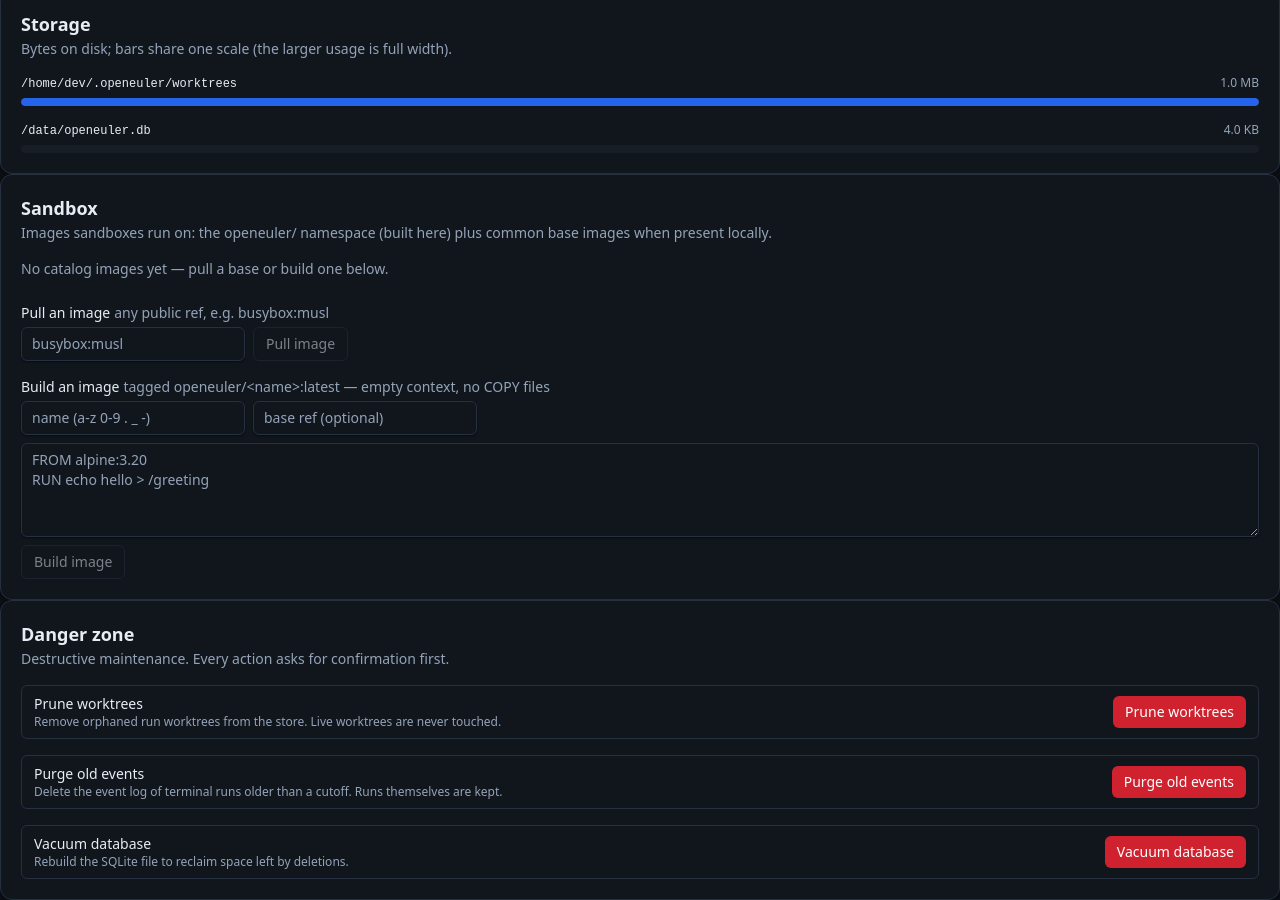
danger zone: vacuum (#95) › surfaces a failed action as a danger toast
(page scrolled)
Click the button "Vacuum database": (1175, 852) x1=1105 y1=836 x2=1246 y2=868
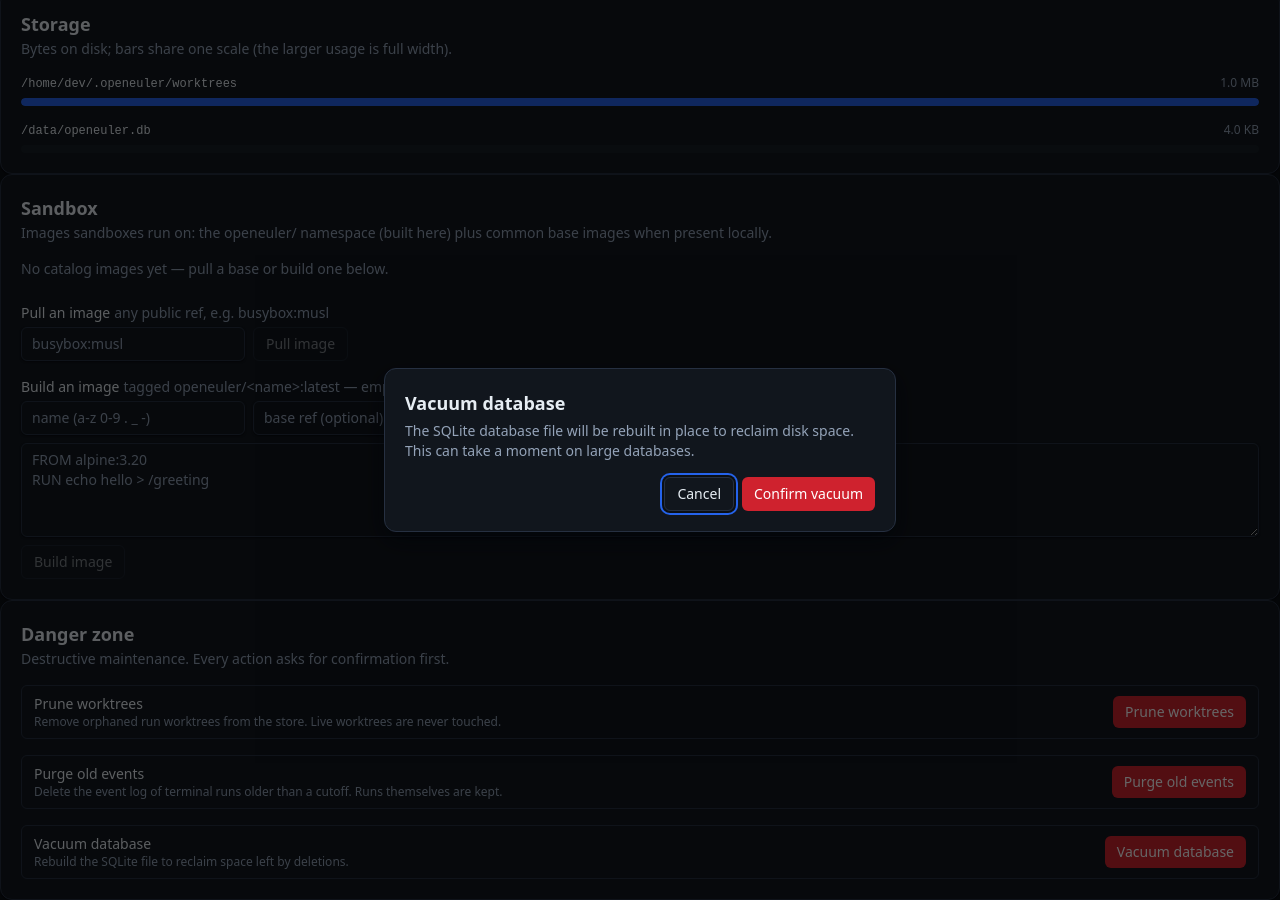
Click the button "Confirm vacuum": (808, 494) x1=742 y1=477 x2=875 y2=511
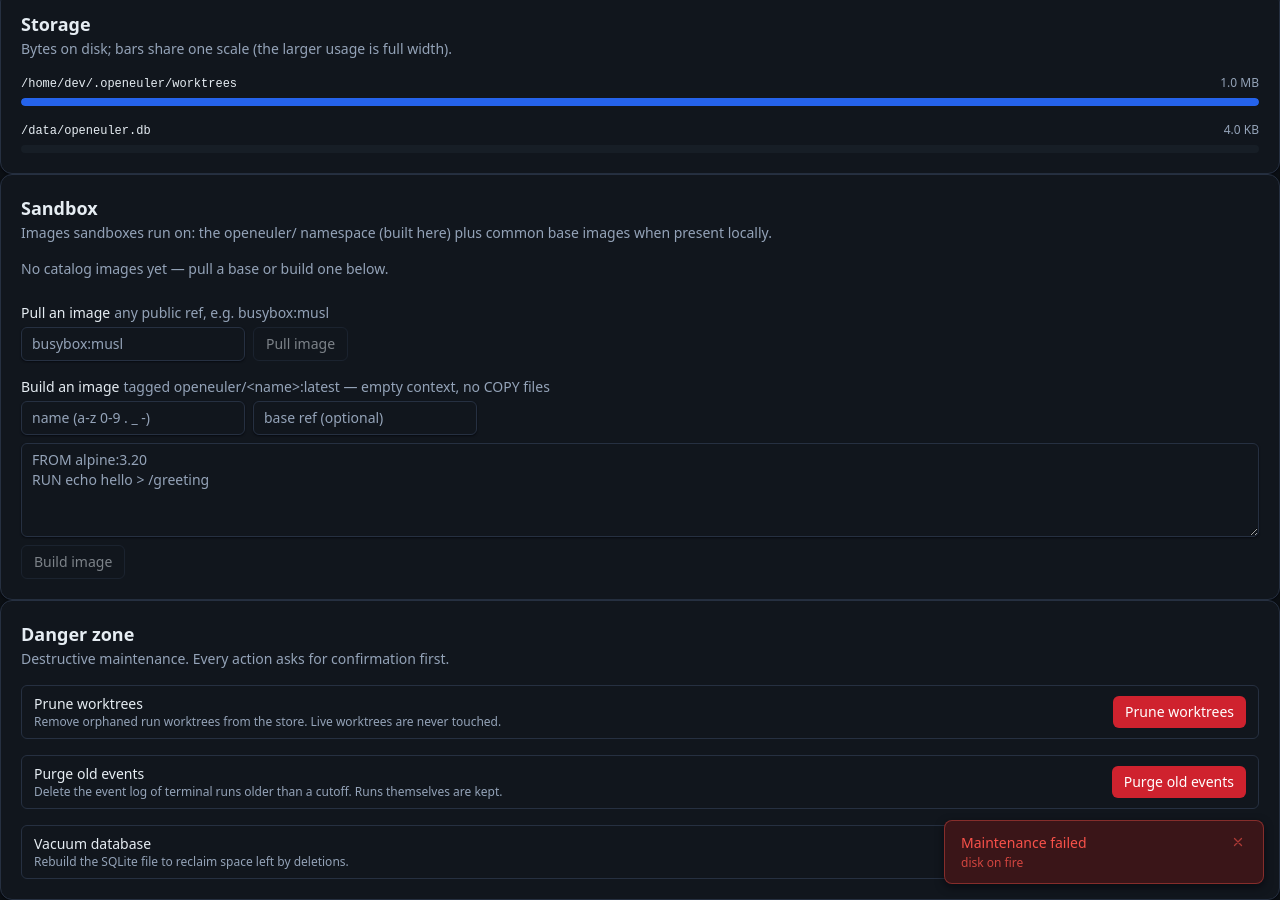
Expected: the text "Maintenance failed" is shown, x1=961 y1=833 x2=1087 y2=853
Expected: the text "disk on fire" is shown, x1=961 y1=854 x2=1023 y2=871
